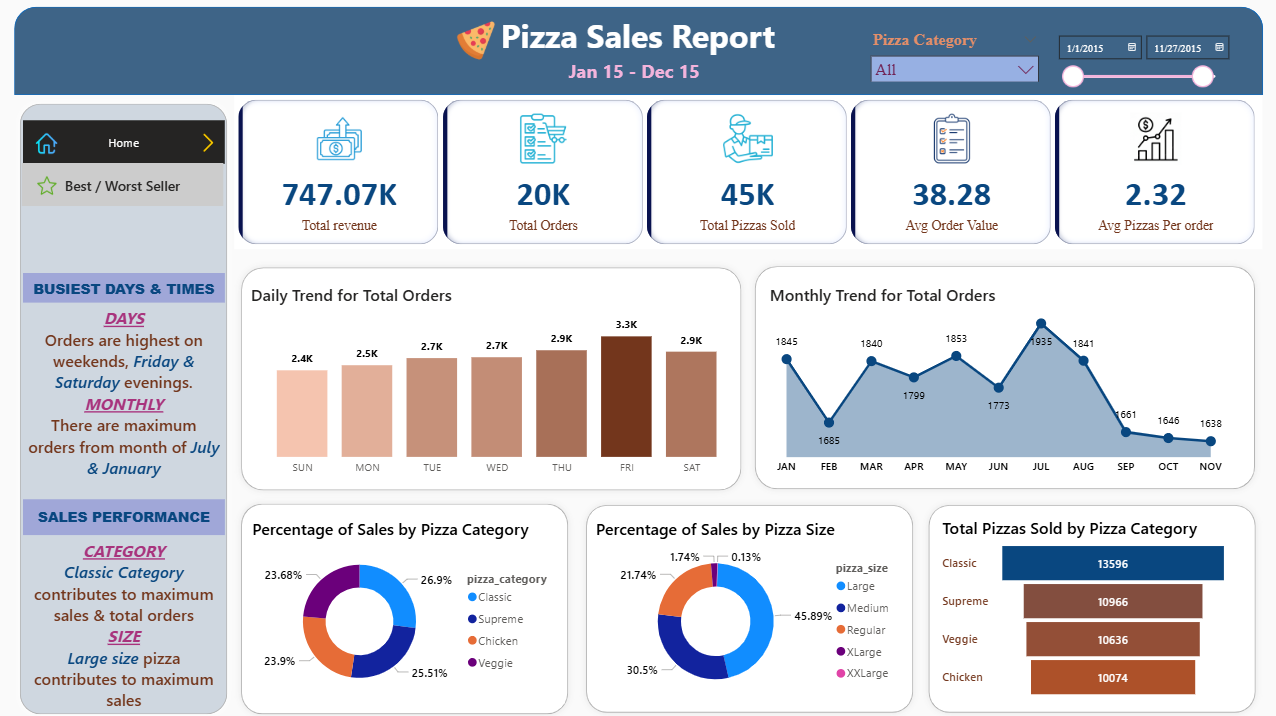

The dashboard page shown, as its layout file describes it:
{"tool":"powerbi","page":{"name":"Home","canvas":[1500,840],"ordinal":0},"visuals":[{"type":"shape","box":[25,10,1450,102.5],"z":0},{"type":"cardVisual","fields":{"Data":["pizza_sales.Total revenue","pizza_sales.Total Orders","pizza_sales.Total Pizzas Sold","pizza_sales.Avg Order Value","pizza_sales.Avg Pizzas Per order"]},"box":[280,113.3,1193.3,178.3],"z":1000},{"type":"textbox","box":[576.7,13.3,345,73.3],"z":2000},{"type":"textbox","box":[663.3,65.6,185.6,46.7],"z":3000},{"type":"image","box":[528.3,21.7,65,55],"z":4000},{"type":"shape","box":[280,305,596.7,275],"z":5000},{"type":"columnChart","title":"Daily Trend for Total Orders","fields":{"Category":["pizza_sales.Order Day"],"Y":["pizza_sales.Total Orders"]},"box":[295.2,332.3,582.3,230.6],"z":6000},{"type":"shape","box":[876.4,303.9,596.6,275],"z":7000},{"type":"areaChart","title":"Monthly Trend for Total Orders","fields":{"Y":["pizza_sales.Total Orders"],"Category":["pizza_sales.Order Month"]},"box":[897.3,332.9,541.9,230],"z":8000},{"type":"shape","box":[279.8,578.9,395.6,260.5],"z":9000},{"type":"shape","box":[1079,580.5,395.6,257.3],"z":10000},{"type":"shape","box":[680.2,580.5,395.6,257.3],"z":11000},{"type":"donutChart","title":"Percentage of Sales by Pizza Category","fields":{"Category":["pizza_sales.pizza_category"],"Y":["pizza_sales.Total revenue"]},"box":[295.9,603,368.2,215.5],"z":12000},{"type":"donutChart","title":"Percentage of Sales by Pizza Size","fields":{"Category":["pizza_sales.pizza_size"],"Y":["pizza_sales.Total revenue"]},"box":[694.7,603,368.2,215.5],"z":13000},{"type":"shape","box":[23.3,115,256.7,725],"z":14000},{"type":"funnel","title":"Total Pizzas Sold by Pizza Category","fields":{"Category":["pizza_sales.pizza_category"],"Y":["pizza_sales.Total Pizzas Sold"]},"box":[1097.1,602.9,342.1,215.7],"z":15000},{"type":"textbox","box":[34.2,581.7,234.2,41.7],"z":16000},{"type":"textbox","box":[34.2,354.2,234.2,215.8],"z":17000},{"type":"textbox","box":[34.2,623.3,234.2,210],"z":18000},{"type":"textbox","box":[34.2,320,234.2,34.2],"z":19000},{"type":"slicer","fields":{"Values":["pizza_sales.pizza_category"]},"box":[1008.6,32.9,215.7,64.3],"z":20000},{"type":"slicer","fields":{"Values":["pizza_sales.order_date"]},"box":[1224.3,32.9,215.7,80],"z":21000},{"type":"pageNavigator","box":[34.3,142.9,234.3,50],"z":22000},{"type":"pageNavigator","box":[34,192,234,50],"z":23000},{"type":"image","box":[218.6,152.9,61.4,31.4],"z":24000},{"type":"image","box":[44.7,150.6,34.7,35.9],"z":25000},{"type":"image","box":[44.7,201.2,34.7,32.4],"z":26000}]}

Visuals, with their boxes in screenshot pixels (x1, y1, x2, y2), scaled from the page's 1500x840 canvas onto the 1276x716 screenshot:
shape: <region>21, 9, 1255, 96</region>
cardVisual - pizza_sales.Total revenue x pizza_sales.Total Orders: <region>238, 97, 1253, 249</region>
textbox: <region>491, 11, 784, 74</region>
textbox: <region>564, 56, 722, 96</region>
image: <region>449, 18, 505, 65</region>
shape: <region>238, 260, 746, 494</region>
"Daily Trend for Total Orders" columnChart: <region>251, 283, 746, 480</region>
shape: <region>746, 259, 1253, 493</region>
"Monthly Trend for Total Orders" areaChart: <region>763, 284, 1224, 480</region>
shape: <region>238, 493, 575, 715</region>
shape: <region>918, 495, 1254, 714</region>
shape: <region>579, 495, 915, 714</region>
"Percentage of Sales by Pizza Category" donutChart: <region>252, 514, 565, 698</region>
"Percentage of Sales by Pizza Size" donutChart: <region>591, 514, 904, 698</region>
shape: <region>20, 98, 238, 715</region>
"Total Pizzas Sold by Pizza Category" funnel: <region>933, 514, 1224, 698</region>
textbox: <region>29, 496, 228, 531</region>
textbox: <region>29, 302, 228, 486</region>
textbox: <region>29, 531, 228, 710</region>
textbox: <region>29, 273, 228, 302</region>
slicer - pizza_sales.pizza_category: <region>858, 28, 1041, 83</region>
slicer - pizza_sales.order_date: <region>1041, 28, 1225, 96</region>
pageNavigator: <region>29, 122, 228, 164</region>
pageNavigator: <region>29, 164, 228, 206</region>
image: <region>186, 130, 238, 157</region>
image: <region>38, 128, 68, 159</region>
image: <region>38, 171, 68, 199</region>
